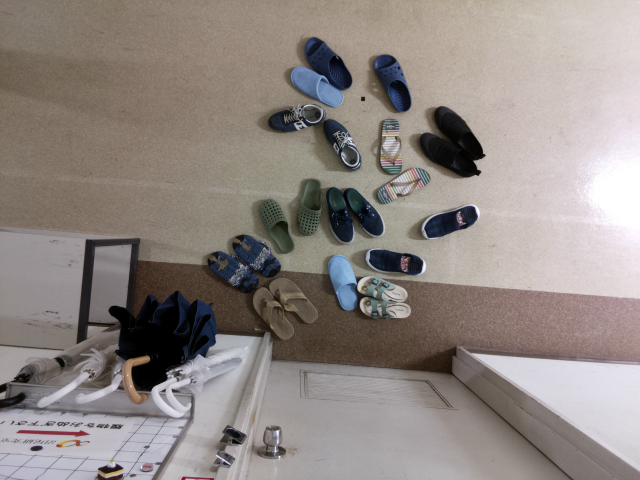Copy of Copy of Copy of Copy of Copy of Copy of Copy of shoe: (322, 117, 362, 171)
Copy of Copy of Copy of Copy of Copy of Copy of shoe: (268, 102, 327, 134)
Copy of Copy of Copy of Copy of Copy of shoe: (342, 186, 386, 238)
Copy of Copy of Copy of Copy of Copy of slipper: (289, 65, 343, 107)
Copy of Copy of Copy of Copy of sandal: (355, 275, 408, 303)
Copy of Copy of Copy of Copy of shoe: (324, 186, 355, 244)
Copy of Copy of Copy of Copy of slipper: (303, 35, 352, 91)
Copy of Copy of Copy of sandal: (359, 295, 411, 319)
Copy of Copy of Copy of shoe: (365, 246, 426, 277)
Copy of Copy of Copy of slipper: (373, 53, 412, 112)
Copy of Copy of sandal: (269, 277, 318, 324)
Copy of Copy of shoe: (420, 203, 480, 241)
Copy of Copy of slipper: (326, 253, 358, 311)
Copy of sandal: (251, 286, 293, 340)
Copy of shoe: (418, 131, 482, 177)
Copy of slipper: (259, 197, 294, 254)
sandal: (230, 233, 281, 277), (206, 250, 259, 292), (376, 167, 430, 204), (378, 118, 402, 175)
shoe: (433, 104, 486, 161)
slipper: (296, 177, 322, 236)
